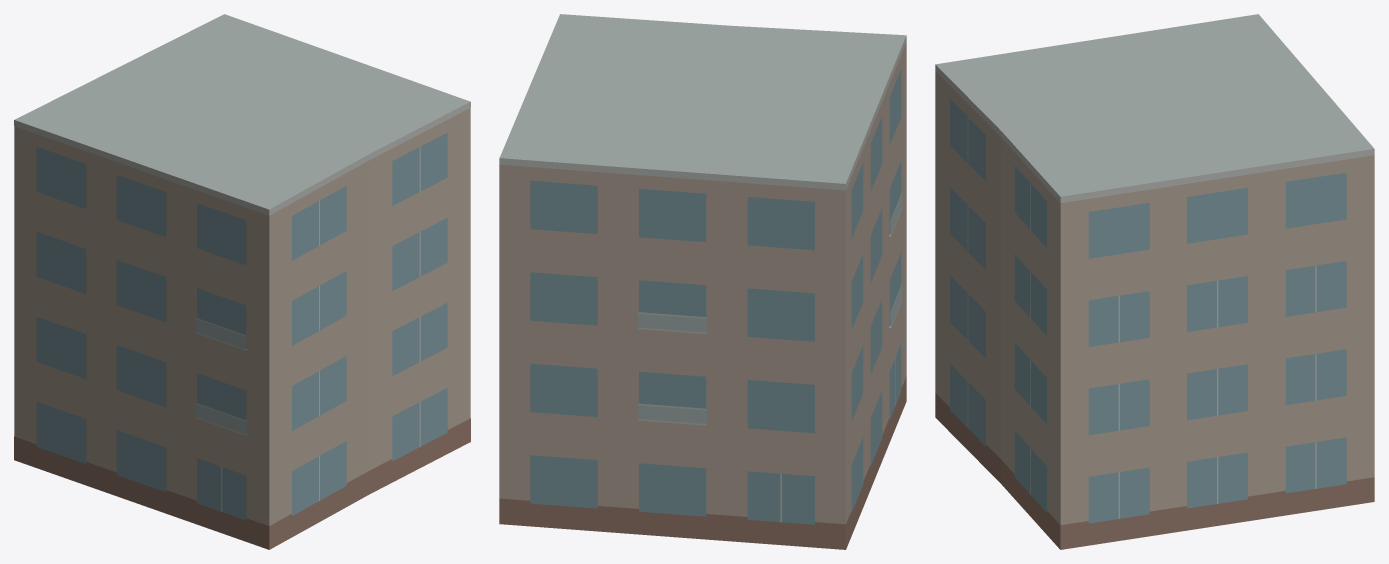
Rendered from survey-upis-32858195.glb.
3 views of the same model, side by side, from view 1: azimuth 30°, elevation 25°; view 2: azimuth 150°, elevation 25°; view 3: azimuth 270°, elevation 25° (orthographic). The views are drawn at different scales.
Visible parts, largest first — view 1: survey-upis-32858195.tmp; view 2: survey-upis-32858195.tmp; view 3: survey-upis-32858195.tmp.
Boxes of the visible parts, x1=… form: survey-upis-32858195.tmp: x1=14, y1=14, x2=470, y2=549; survey-upis-32858195.tmp: x1=499, y1=14, x2=906, y2=549; survey-upis-32858195.tmp: x1=935, y1=14, x2=1374, y2=549.
Bounding box in the file's own units: 15 × 13.5 × 15.23.
